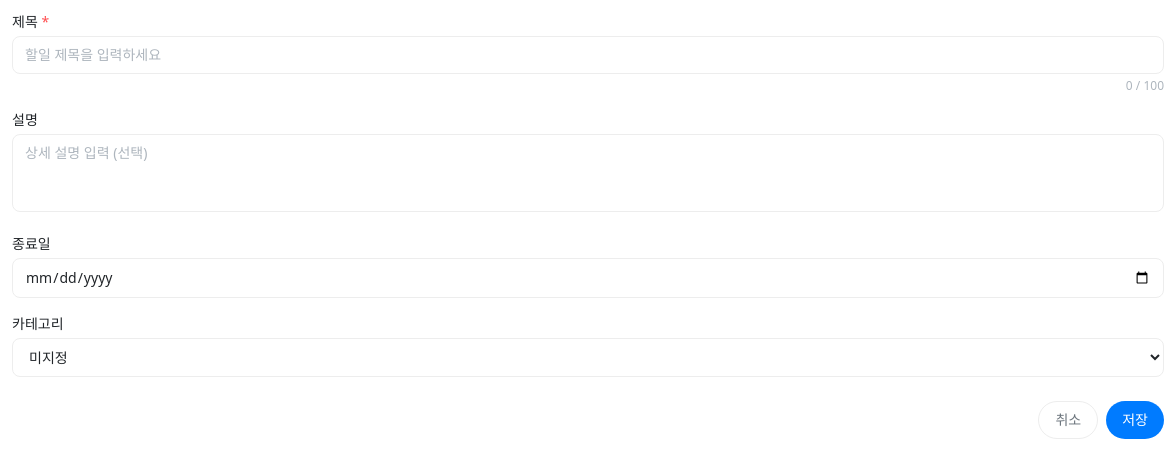
Scenario: TodoForm › 렌더링 › 제목 입력 시 글자 수가 갱신된다
Type "안녕하세요" into the field labelled "제목 *" at (588, 55), box [12,36,1164,74]
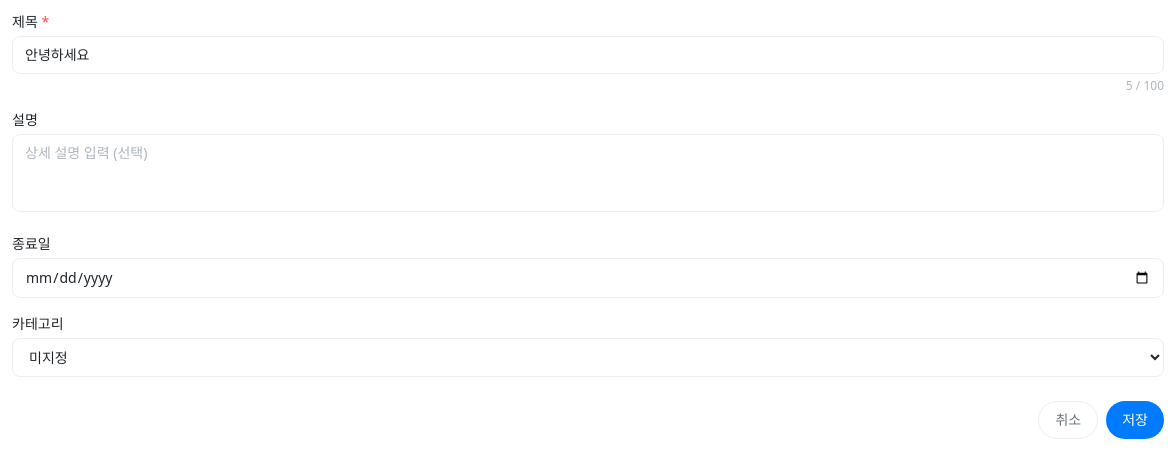
Expected: the text "5 / 100" is shown, [1126,78,1164,94]
